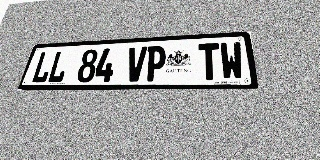4: (93, 48, 117, 82)
8: (76, 49, 100, 82)
L: (46, 50, 71, 83), (30, 51, 55, 83)
P: (144, 45, 166, 81)
T: (198, 43, 221, 80)
V: (125, 46, 147, 82)
W: (219, 42, 245, 80)
